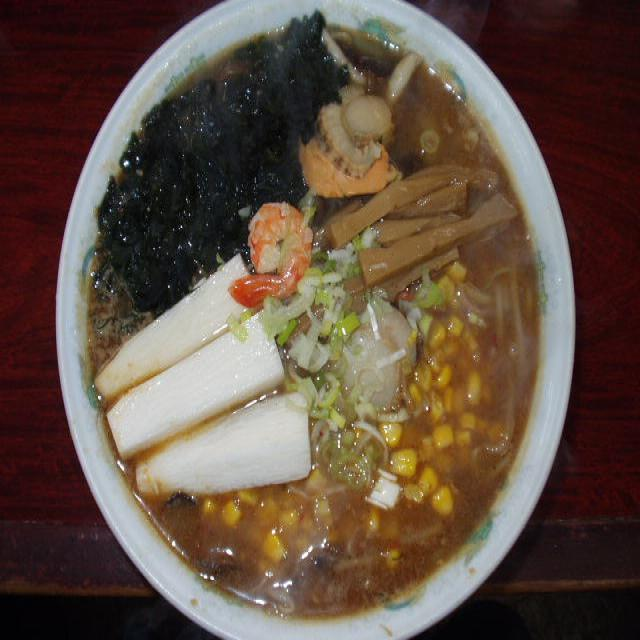面条主食: (53, 0, 580, 640)
